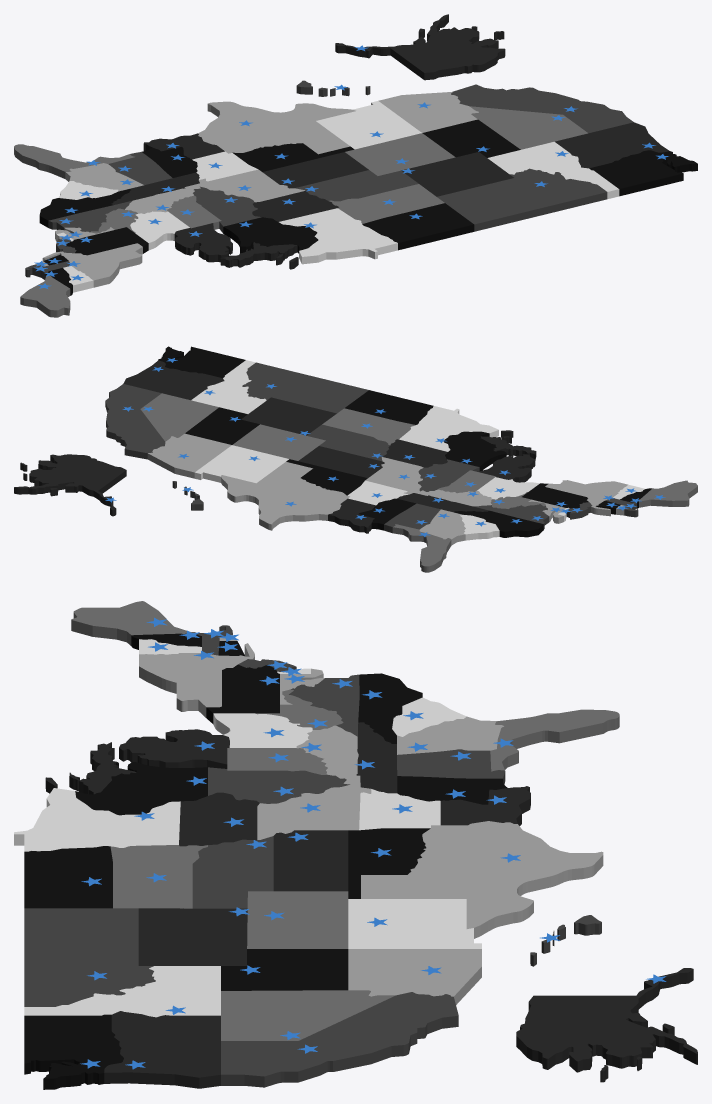
File: US_States_3D_V3.fbx
3 views of the same model, one above another, from view 1: azimuth 30°, elevation 25°; view 2: azimuth 150°, elevation 25°; view 3: azimuth 270°, elevation 25° (orthographic). The views are drawn at different scales.
Parts seen in each view (by area): view 1: Montana_3D_V3, Texas_3D_V3, Alaska_3D_V3, California_3D_V3, Minnesota_3D_V3, North_Dakota_3D_V3, Washington_3D_V3, Nevada_3D_V3, Oregon_3D_V3, Michigan_3D_V3, Wyoming_3D_V3, New_Mexico_3D_V3 (+29 smaller); view 2: Texas_3D_V3, Alaska_3D_V3, Montana_3D_V3, California_3D_V3, New_Mexico_3D_V3, Arizona_3D_V3, Minnesota_3D_V3, Nevada_3D_V3, Oregon_3D_V3, Wyoming_3D_V3, Colorado_3D_V3, Idaho_3D_V3 (+29 smaller); view 3: Texas_3D_V3, California_3D_V3, Montana_3D_V3, Alaska_3D_V3, Oregon_3D_V3, Nevada_3D_V3, Minnesota_3D_V3, Wyoming_3D_V3, Washington_3D_V3, New_Mexico_3D_V3, Arizona_3D_V3, Colorado_3D_V3 (+30 smaller).
Part boxes in pixels (x1,y1,x2,y2): Montana_3D_V3: [437, 168, 607, 231]; Texas_3D_V3: [198, 101, 355, 154]; Alaska_3D_V3: [335, 14, 505, 80]; California_3D_V3: [451, 84, 633, 133]; Minnesota_3D_V3: [279, 208, 397, 264]; North_Dakota_3D_V3: [362, 203, 474, 250]; Washington_3D_V3: [589, 150, 697, 196]; Nevada_3D_V3: [470, 106, 587, 149]; Oregon_3D_V3: [555, 122, 669, 168]; Michigan_3D_V3: [174, 223, 298, 269]; Wyoming_3D_V3: [401, 152, 513, 196]; New_Mexico_3D_V3: [316, 101, 421, 149]; Texas_3D_V3: [221, 462, 349, 530]; Alaska_3D_V3: [14, 454, 126, 516]; Montana_3D_V3: [242, 362, 368, 413]; California_3D_V3: [105, 384, 165, 459]; New_Mexico_3D_V3: [194, 445, 288, 483]; Arizona_3D_V3: [147, 433, 231, 478]; Minnesota_3D_V3: [399, 406, 498, 451]; Nevada_3D_V3: [140, 393, 218, 441]; Oregon_3D_V3: [123, 360, 224, 400]; Wyoming_3D_V3: [241, 397, 336, 435]; Colorado_3D_V3: [232, 424, 325, 460]; Idaho_3D_V3: [191, 360, 266, 413]; Texas_3D_V3: [361, 821, 603, 938]; California_3D_V3: [221, 992, 458, 1087]; Montana_3D_V3: [24, 908, 155, 1006]; Alaska_3D_V3: [516, 968, 697, 1082]; Oregon_3D_V3: [104, 1011, 220, 1088]; Nevada_3D_V3: [221, 990, 395, 1040]; Minnesota_3D_V3: [14, 788, 180, 851]; Wyoming_3D_V3: [138, 908, 247, 965]; Washington_3D_V3: [24, 1014, 123, 1089]; New_Mexico_3D_V3: [348, 899, 481, 948]; Arizona_3D_V3: [348, 949, 481, 1004]; Colorado_3D_V3: [247, 891, 348, 948].
Bounding box in the file's own units: 922 × 10.1 × 558.
